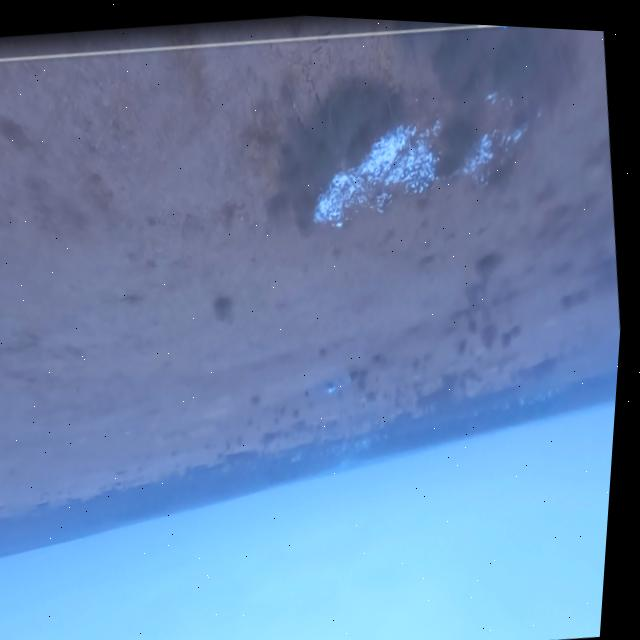planedrone: (296, 363, 354, 410)
